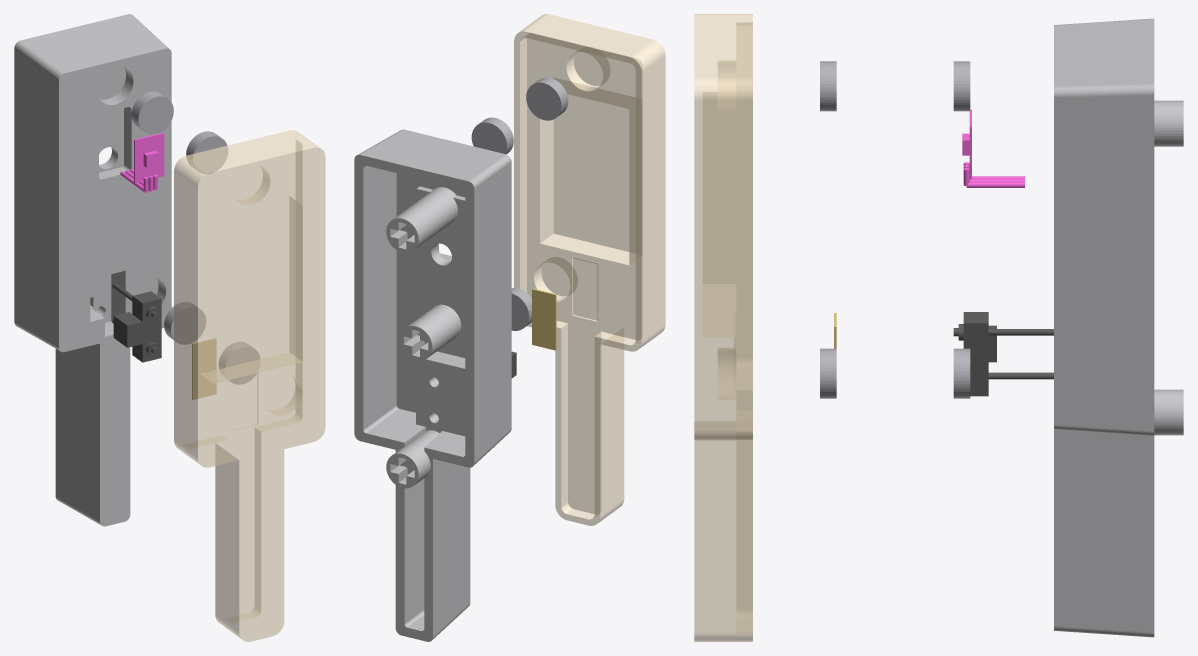
Rendered from key_exploded.glb.
3 views of the same model, side by side, from view 1: azimuth 30°, elevation 25°; view 2: azimuth 150°, elevation 25°; view 3: azimuth 270°, elevation 25° (orthographic). The views are drawn at different scales.
Parts seen in each view (by area): view 1: 5_topper, 4_key, 4b_magnets_key, 4c_pogo_connector, 5a_magnets_topper, 4a_rgb_led_strip_piece, 5b_short_plate; view 2: 4_key, 5_topper, 5a_magnets_topper, 5b_short_plate, 4b_magnets_key; view 3: 4_key, 5_topper, 4c_pogo_connector, 4b_magnets_key, 5a_magnets_topper, 4a_rgb_led_strip_piece.
Boxes of the visible parts, x1,y1,x2,y2 form: 5_topper: (174,130,325,641); 4_key: (14,14,171,526); 4b_magnets_key: (131,91,205,344); 4c_pogo_connector: (112,283,161,362); 5a_magnets_topper: (186,131,260,384); 4a_rgb_led_strip_piece: (120,132,164,192); 5b_short_plate: (192,338,216,399); 4_key: (354,129,511,641); 5_topper: (514,14,665,525); 5a_magnets_topper: (511,77,568,330); 5b_short_plate: (532,288,556,350); 4b_magnets_key: (471,117,513,154); 4_key: (1054,18,1183,637); 5_topper: (694,14,752,641); 4c_pogo_connector: (953,312,1053,396); 4b_magnets_key: (953,61,970,398); 5a_magnets_topper: (820,61,836,398); 4a_rgb_led_strip_piece: (962,109,1024,187).
Bounding box in the file's own units: 21.62 × 77.5 × 58.5.
